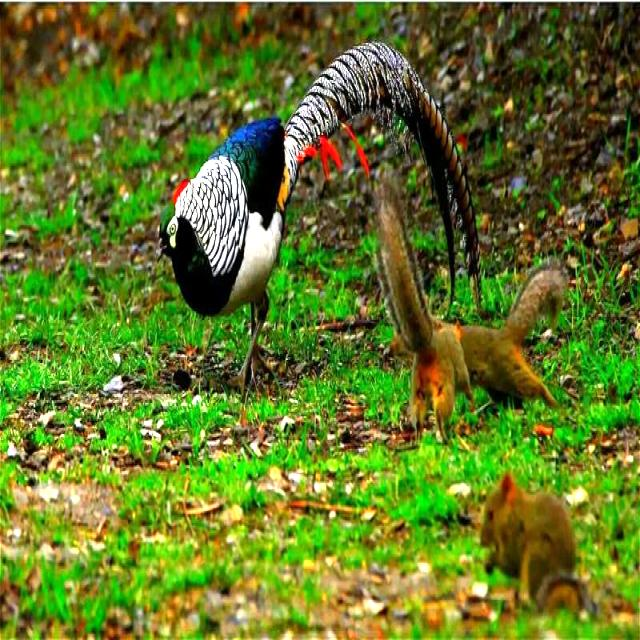Chrysolophus amherstiae: (279, 41, 478, 302)
